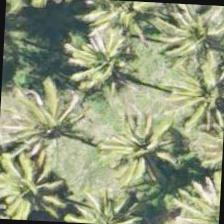Kelapa_Sawit: (96, 104, 190, 199), (10, 74, 105, 168), (0, 140, 59, 222), (45, 173, 138, 223), (164, 178, 221, 223)
